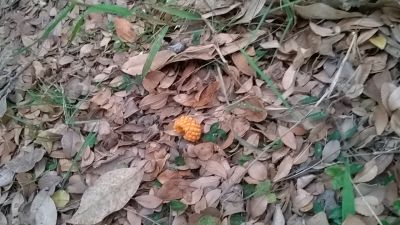eggs: (173, 114, 203, 143)
